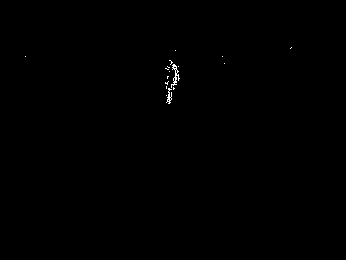person: (163, 57, 184, 110)
